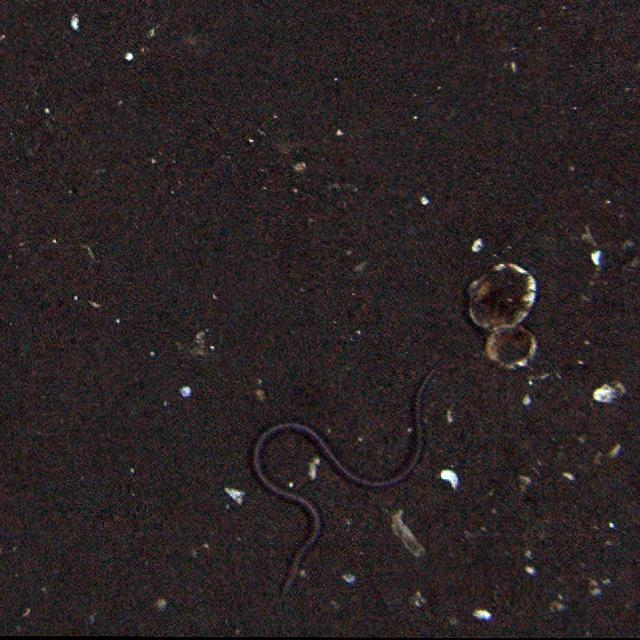eel: (248, 368, 452, 600)
